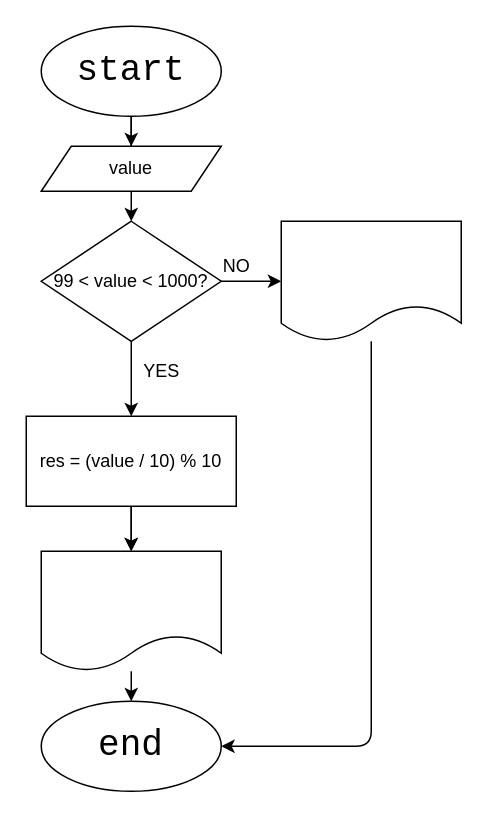
Image size: 488x818. Some labels were removed from this diagram. The centre of each missing label's shape, as x and y in pixels:
"res" belongs at (130,610).
"Введено не трехзначное число" belongs at (370,280).
